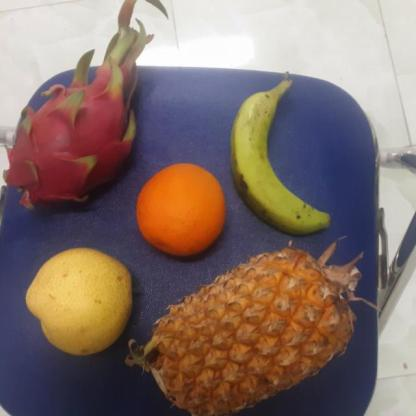banana: (232, 85, 328, 243)
orange: (135, 164, 230, 256)
pear: (22, 249, 141, 358)
pineapple: (148, 248, 364, 416)
pitaya: (10, 68, 145, 212)
